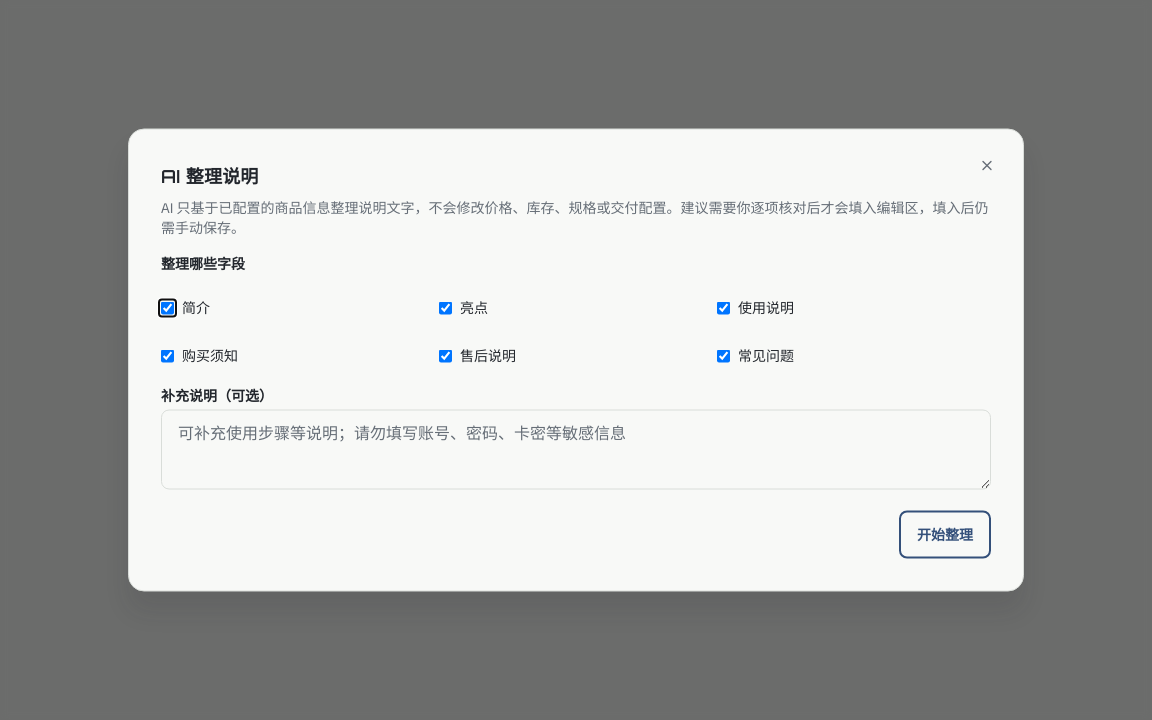
Scenario: ProductContentSuggestionDialog (SPEC-AI-PRODUCT-001 §8) › maps AI_QUOTA_EXCEEDED to its failure copy
The image size is (1152, 720).
Click the button with test id "content-suggestion-generate".
click(945, 534)  # box x1=899 y1=510 x2=991 y2=558
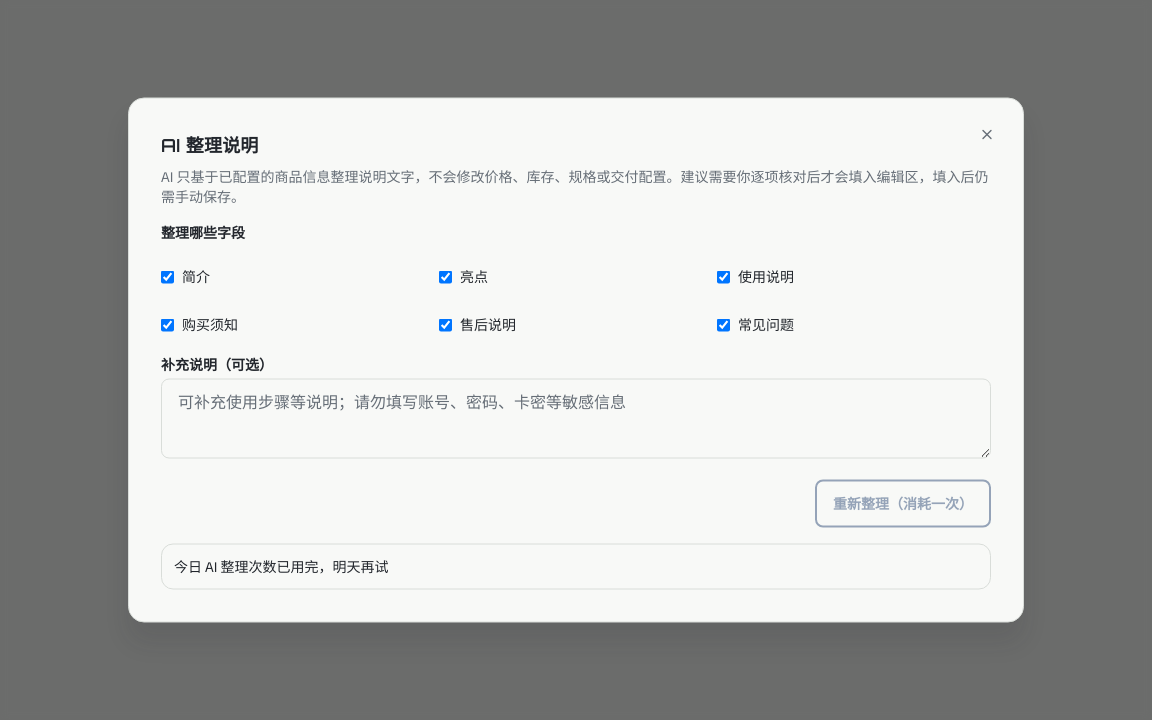
expect the element with test id "content-suggestion-error" shows "今日 AI 整理次数已用完": met, box x1=174 y1=558 x2=389 y2=574
expect the button with test id "content-suggestion-generate" is disabled: met, box x1=815 y1=480 x2=991 y2=528
